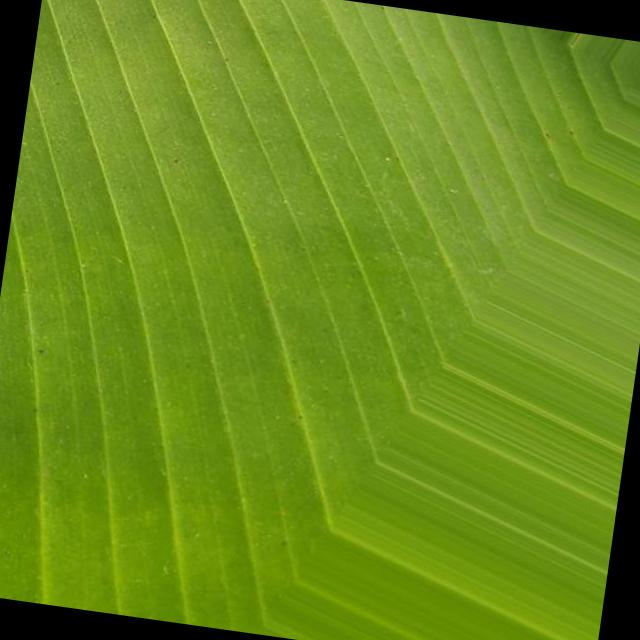Banana_Healthy: (25, 18, 430, 476)
